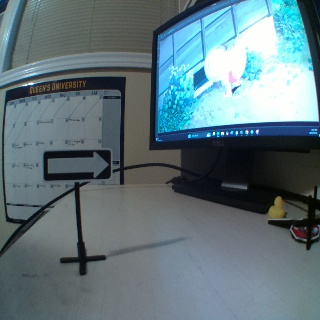sign_oneway_right: (42, 149, 110, 178)
